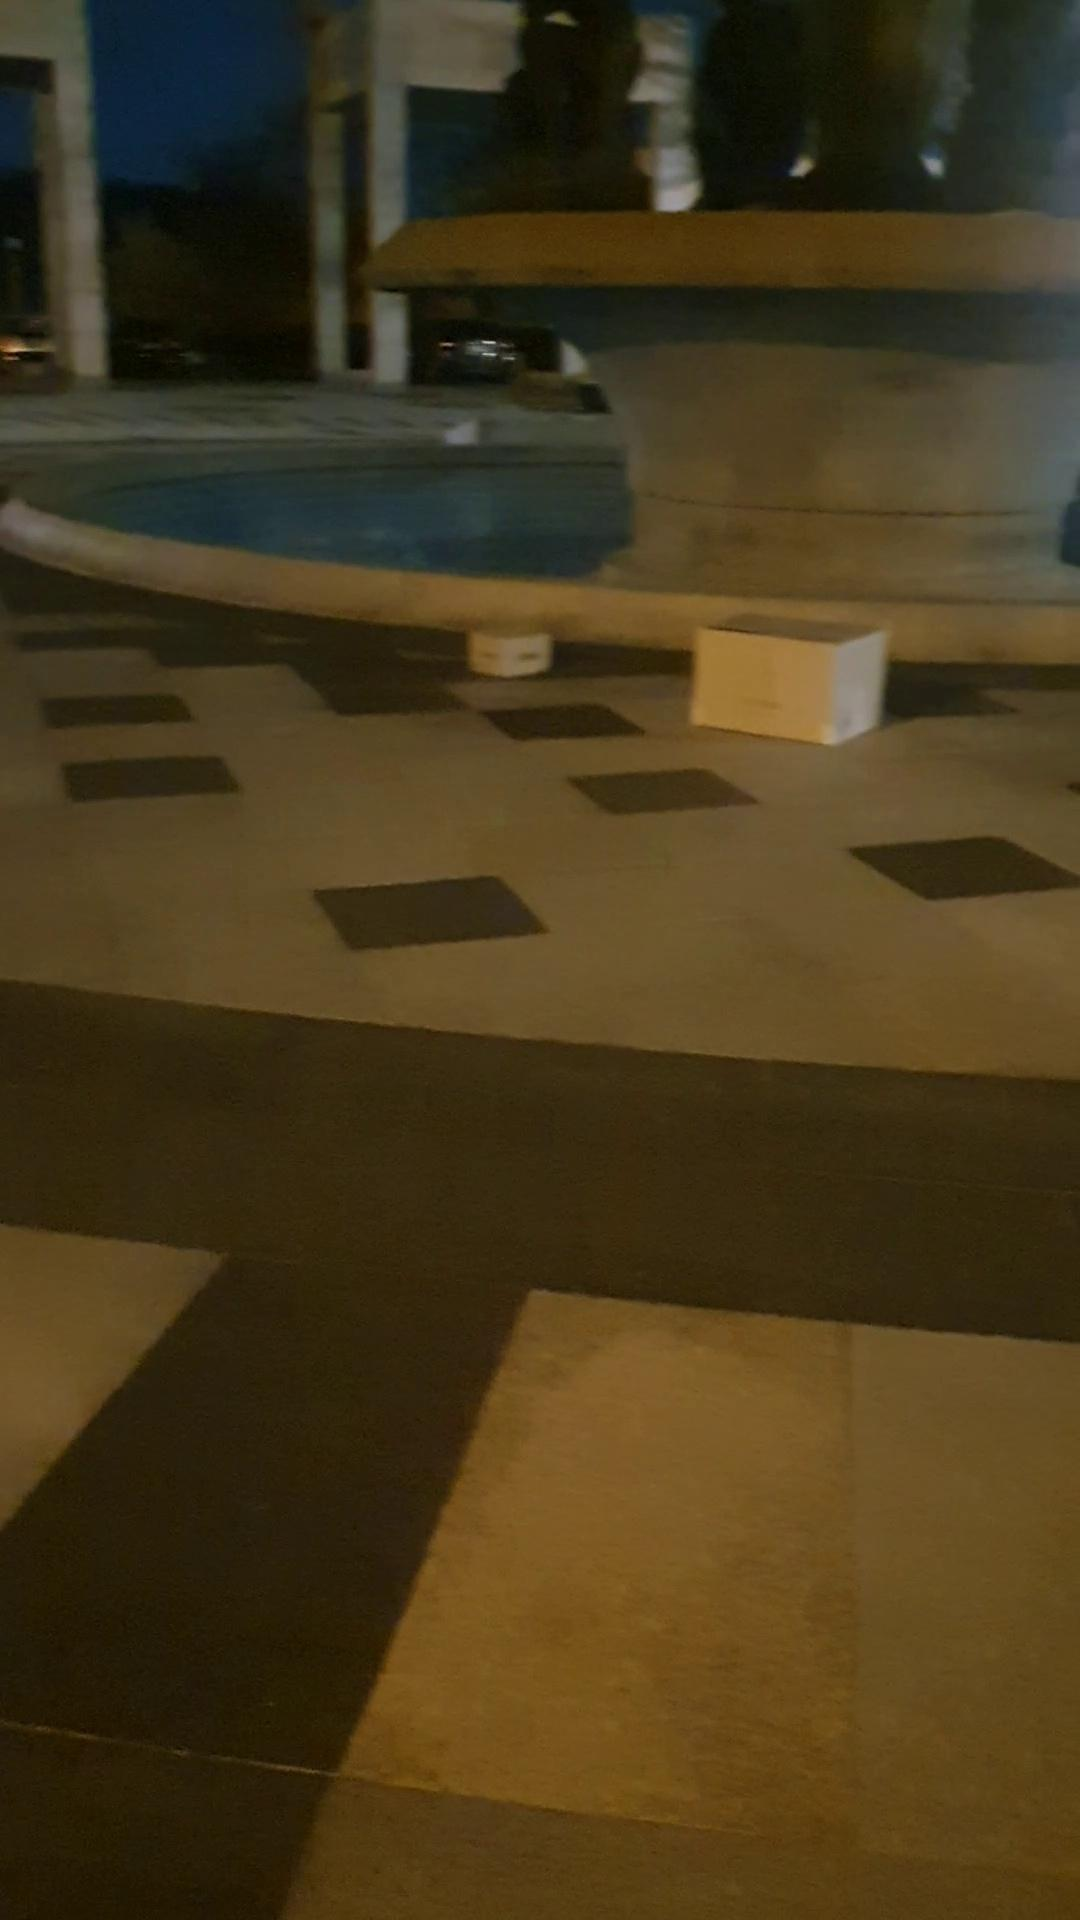Box: (678, 597, 899, 756), (458, 605, 556, 684)
